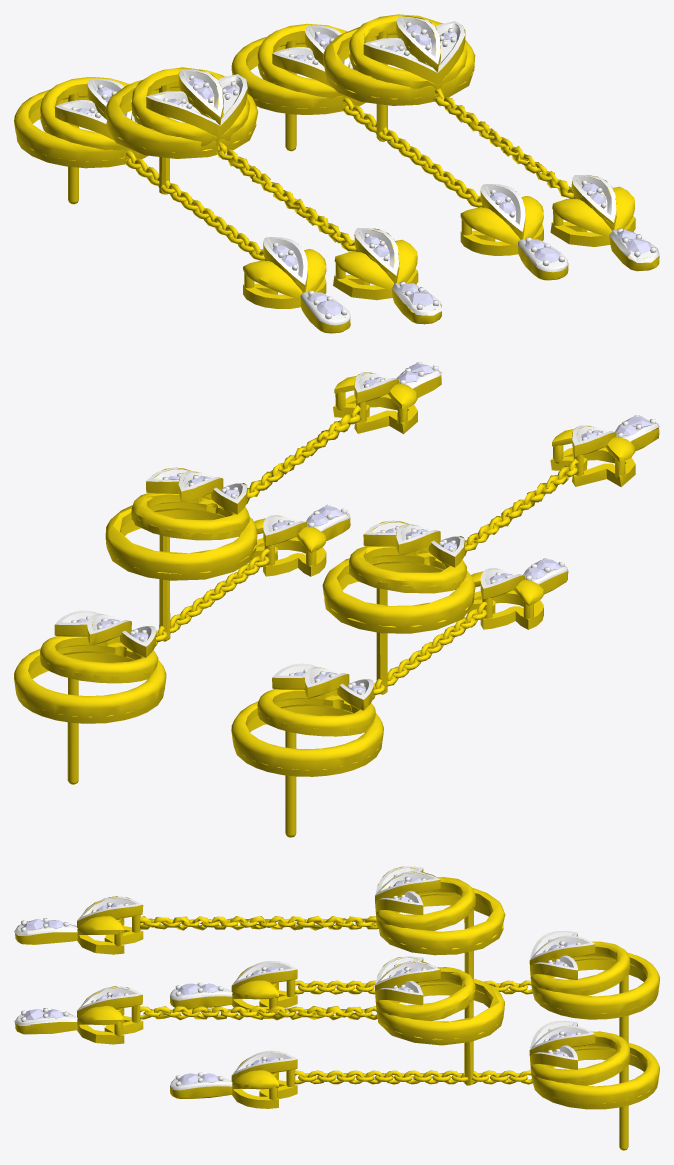
3 views of the same model, one above another, from view 1: azimuth 30°, elevation 25°; view 2: azimuth 150°, elevation 25°; view 3: azimuth 270°, elevation 25° (orthographic). The views are drawn at different scales.
Parts seen in each view (by area): view 1: lowPolyMesh, highPolyMesh; view 2: lowPolyMesh, highPolyMesh; view 3: lowPolyMesh, highPolyMesh.
Part boxes in pixels (x1,y1,x2,y2): lowPolyMesh: (105,14,659,324); highPolyMesh: (14,23,568,333); lowPolyMesh: (105,362,659,694); highPolyMesh: (14,504,568,837); lowPolyMesh: (14,866,505,1085); highPolyMesh: (170,931,659,1150).
Size of the model in its own units: 0.0253 by 0.015 by 0.0478.
